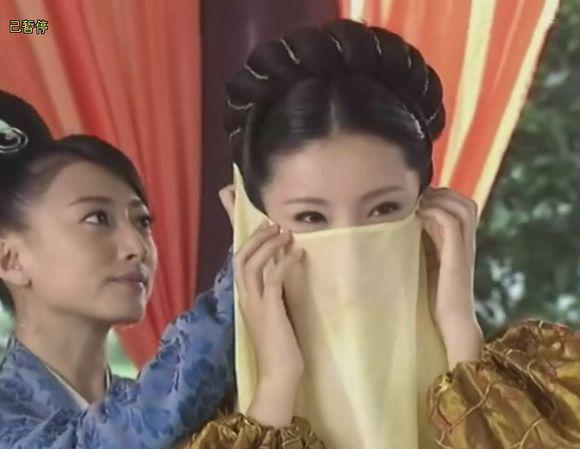NONE: (48, 189, 160, 323)
OK: (267, 177, 415, 325)
